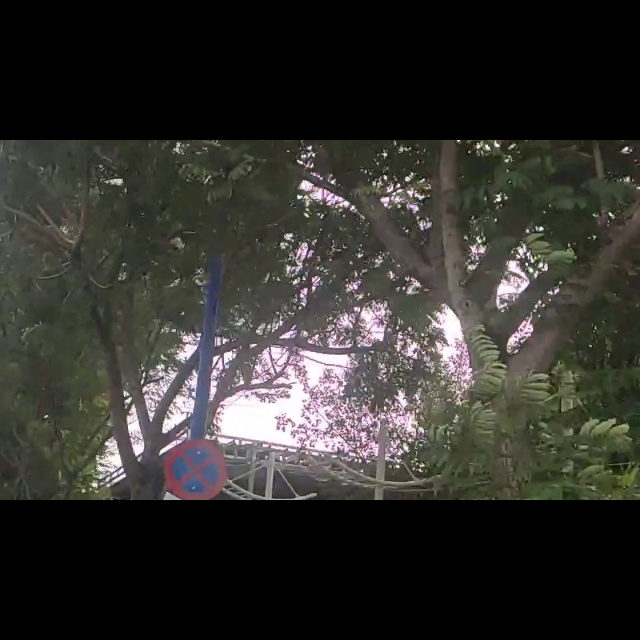bien_cam: (163, 529, 230, 640)
